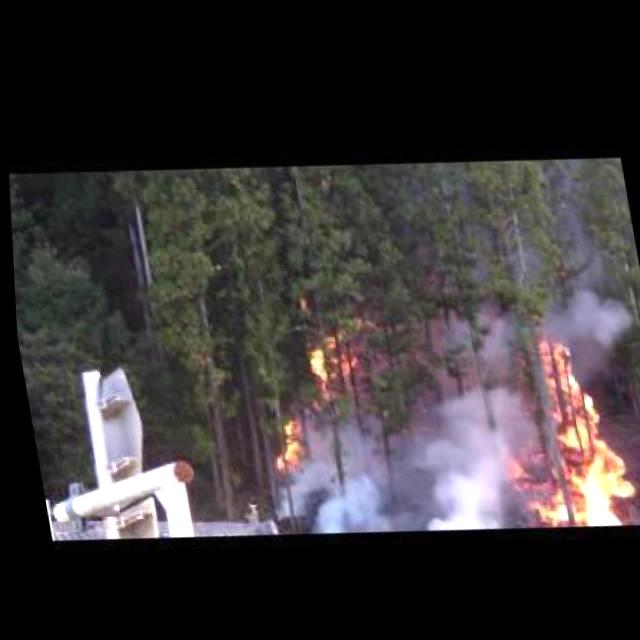fire: (484, 310, 640, 524), (309, 326, 363, 398), (266, 409, 306, 466)
